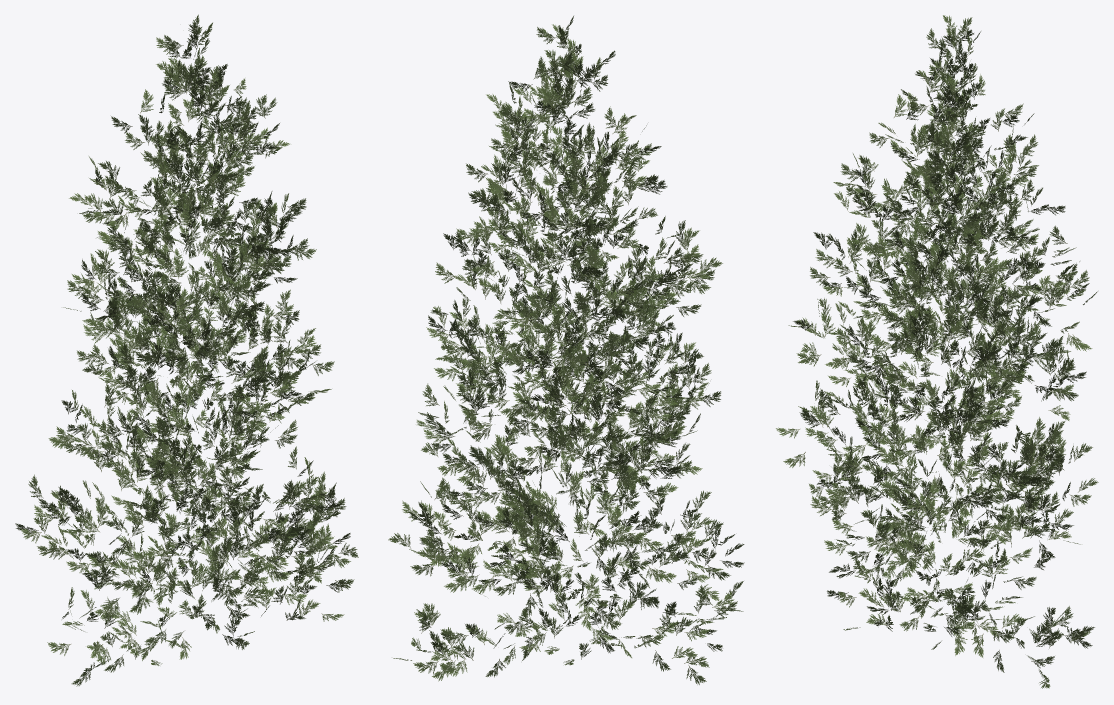
Rendered from MESH_CL04_CalocedrusDecurrens_Y_LOD2.fbx.
3 renders of one model, left to right at view 1: azimuth 30°, elevation 25°; view 2: azimuth 150°, elevation 25°; view 3: azimuth 270°, elevation 25°, orthographic. The views are drawn at different scales.
Visible parts, largest first — view 1: MI_LOD2_001; view 2: MI_LOD2_001; view 3: MI_LOD2_001.
Boxes of the visible parts, left/top/right/bottom form: MI_LOD2_001: left=15, top=14, right=358, bottom=686; MI_LOD2_001: left=388, top=16, right=744, bottom=684; MI_LOD2_001: left=776, top=15, right=1098, bottom=688.
Size of what is drawn, in the model's own units: 716 by 1400 by 649.
